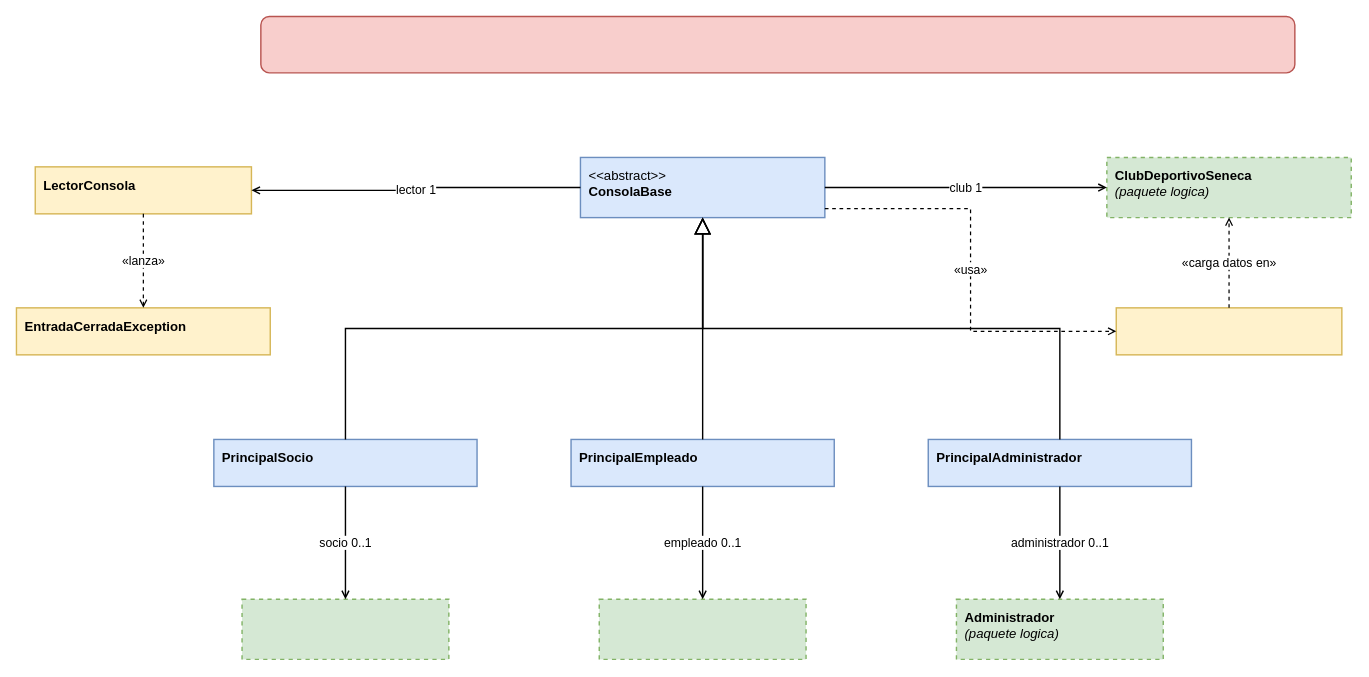
Some shapes in this 1369 by 677 pixel diagram are drawn without their labels. The shapes that lost their labels are listed below. From the top down, each one's box as (x1, y1, x2, y2) in pixels, then its label:
(260, 15, 1295, 73): BLOQUE 9. PRESENTACIÓN: INTERFAZ POR CONSOLA
(1115, 307, 1342, 355): DatosIniciales
(241, 598, 449, 660): Socio (paquete logica)
(598, 598, 806, 660): Empleado (paquete logica)
